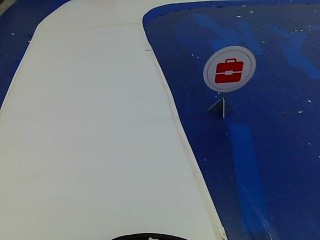company: (208, 51, 249, 92)
